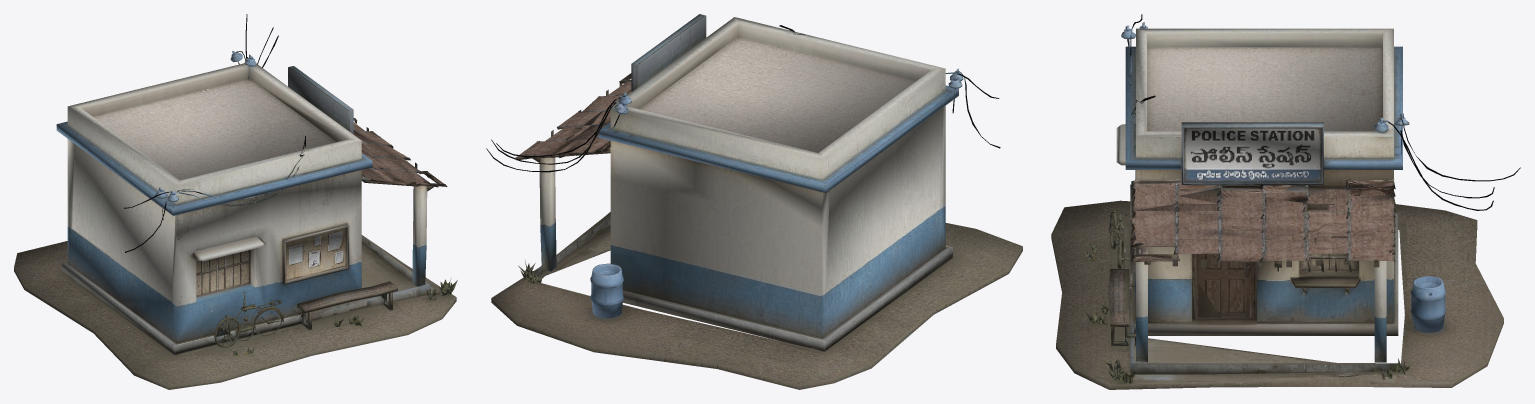
Rendered from tripo_convert_8ef5f39b-2cb9-4879-a1b1-8f28ab558470.fbx.
3 views of the same model, side by side, from view 1: azimuth 30°, elevation 25°; view 2: azimuth 150°, elevation 25°; view 3: azimuth 270°, elevation 25° (orthographic). The views are drawn at different scales.
Parts seen in each view (by area): view 1: tripo_node_8ef5f39b; view 2: tripo_node_8ef5f39b; view 3: tripo_node_8ef5f39b.
Part boxes in pixels (x1,y1,x2,y2): tripo_node_8ef5f39b: (14, 14, 457, 389); tripo_node_8ef5f39b: (486, 14, 1022, 389); tripo_node_8ef5f39b: (1051, 14, 1520, 389).
Bounding box in the file's own units: 0.9473 × 0.5215 × 0.998.
